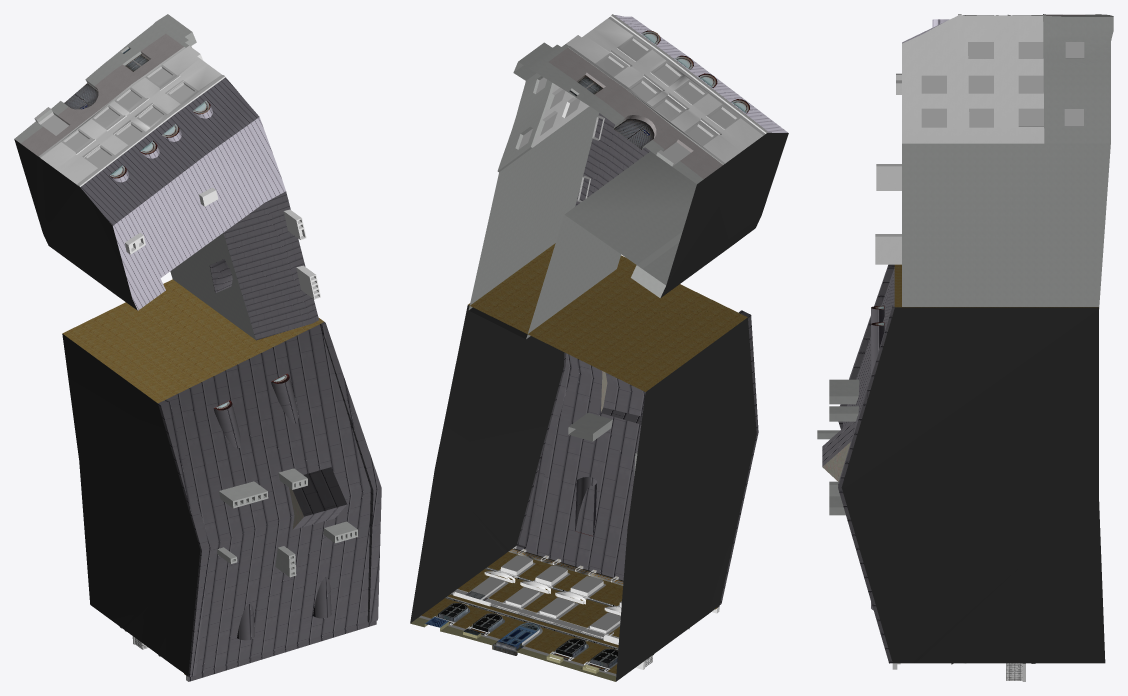
The model's file is Niguliste4.obj.
3 renders of one model, left to right at view 1: azimuth 30°, elevation 25°; view 2: azimuth 150°, elevation 25°; view 3: azimuth 270°, elevation 25°, orthographic. The views are drawn at different scales.
Visible parts, largest first — view 1: Niguliste4; view 2: Niguliste4; view 3: Niguliste4.
Boxes of the visible parts, <box> form: Niguliste4: <box>14,14,381,681</box>; Niguliste4: <box>410,14,788,681</box>; Niguliste4: <box>817,14,1113,681</box>.
Bounding box in the file's own units: 22.22 × 46.31 × 20.06.
